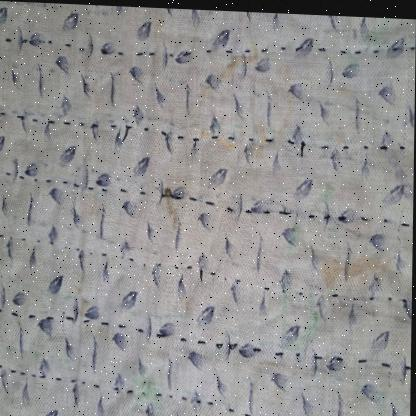spot: (276, 178, 339, 362), (198, 32, 265, 105), (352, 232, 402, 278), (314, 232, 354, 284), (146, 17, 168, 86), (199, 118, 240, 153), (157, 174, 180, 235), (86, 67, 110, 114), (73, 278, 96, 323), (364, 18, 390, 55), (131, 368, 162, 399), (255, 340, 277, 383), (281, 46, 292, 130), (183, 281, 201, 324), (330, 78, 359, 103), (337, 40, 362, 63), (256, 116, 269, 160), (327, 125, 347, 152), (272, 378, 291, 402)
